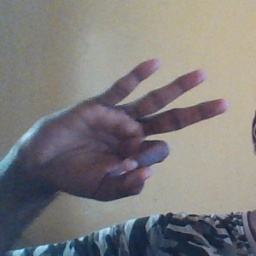K: (24, 57, 231, 204)
